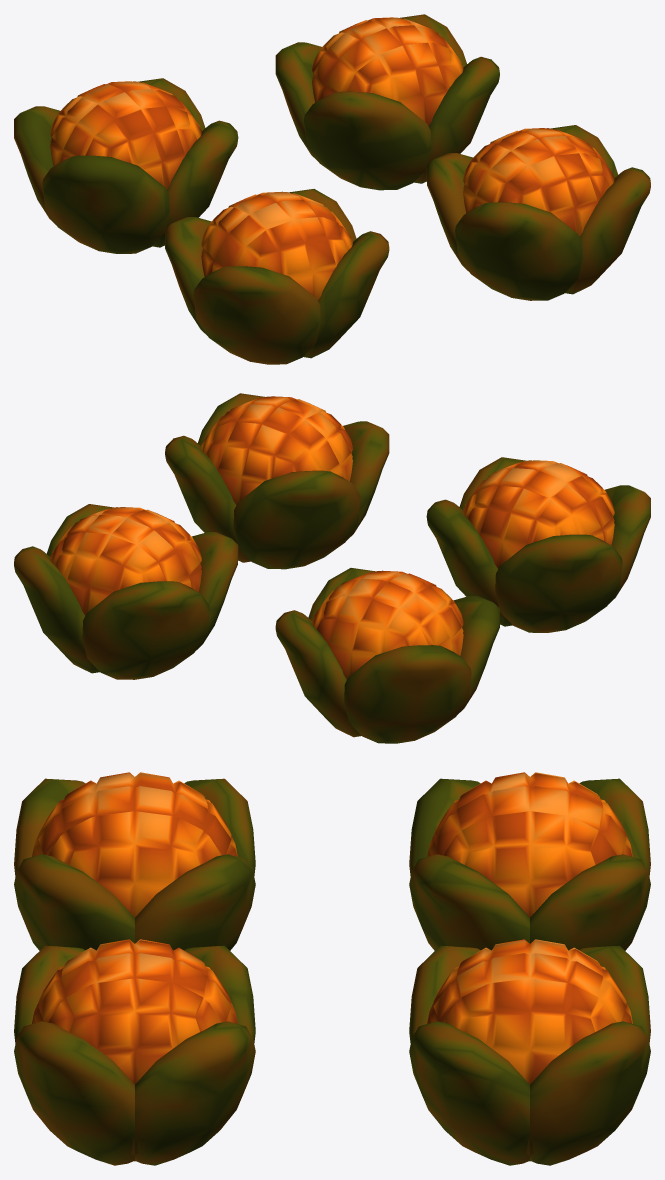
Rendered from Farm_Crop_Cauliflower_Dead.glb.
3 renders of one model, top to bottom at view 1: azimuth 30°, elevation 25°; view 2: azimuth 150°, elevation 25°; view 3: azimuth 270°, elevation 25°, orthographic. The views are drawn at different scales.
Visible parts, largest first — view 1: Farm_Crop_Cauliflower_Dead; view 2: Farm_Crop_Cauliflower_Dead; view 3: Farm_Crop_Cauliflower_Dead.
Part boxes in pixels (x1,y1,x2,y2): Farm_Crop_Cauliflower_Dead: [14, 14, 650, 364]; Farm_Crop_Cauliflower_Dead: [14, 393, 650, 743]; Farm_Crop_Cauliflower_Dead: [14, 772, 650, 1165].
Bounding box in the file's own units: 1.67 × 0.5637 × 1.61.
1 material, 1 textured.
